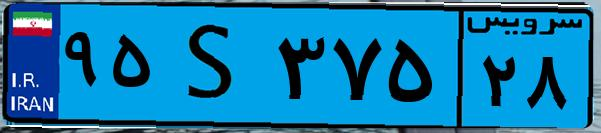2: (475, 38, 525, 113)
3: (270, 28, 330, 110)
5: (385, 28, 445, 110), (110, 28, 158, 98)
7: (330, 28, 385, 110)
8: (525, 38, 570, 115)
9: (57, 26, 110, 100)
S: (158, 12, 270, 120)
